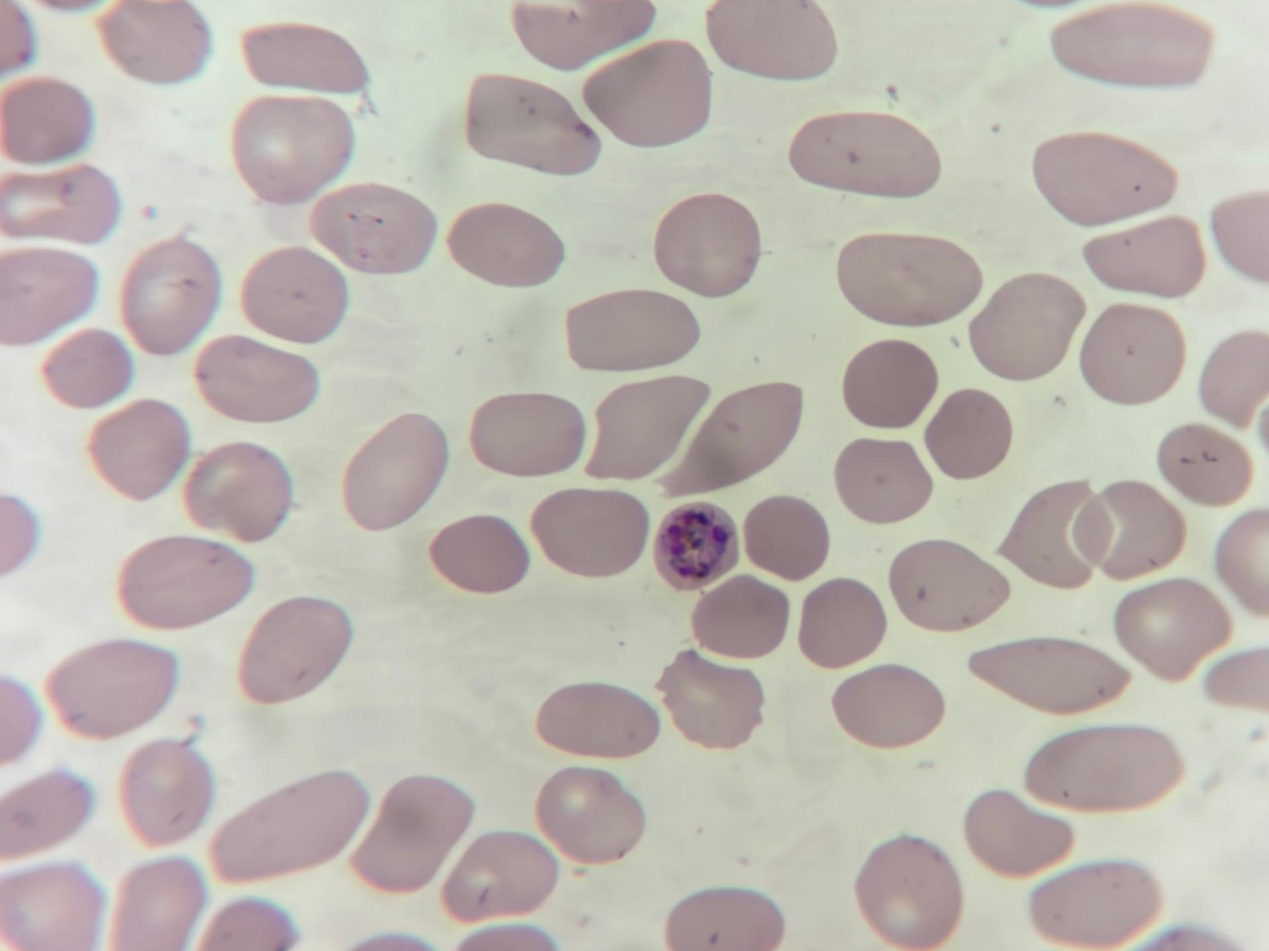Infected: (650, 503, 737, 591)
Uninfected: (210, 770, 369, 885), (652, 381, 802, 500), (347, 775, 473, 893), (1050, 2, 1215, 88), (581, 40, 711, 149), (465, 74, 599, 176), (836, 234, 981, 327), (1033, 133, 1178, 225), (45, 639, 177, 740), (1026, 724, 1177, 812), (581, 378, 707, 481), (789, 112, 938, 198), (118, 535, 250, 630), (341, 413, 449, 529), (232, 96, 350, 201), (237, 597, 350, 704), (969, 639, 1127, 715), (966, 275, 1083, 377), (855, 839, 964, 948), (122, 236, 223, 353), (1114, 579, 1229, 681), (1028, 861, 1161, 948), (309, 183, 434, 275), (997, 482, 1104, 588), (889, 540, 1012, 632), (1079, 303, 1188, 405), (654, 194, 761, 297), (239, 247, 349, 346), (440, 832, 556, 925), (183, 443, 293, 541), (535, 767, 646, 864), (564, 289, 695, 371), (529, 489, 647, 580), (120, 738, 216, 849), (196, 335, 317, 422), (655, 650, 762, 747), (87, 397, 189, 498), (1081, 481, 1184, 580), (445, 204, 566, 288), (706, 1, 833, 81), (1082, 215, 1202, 298), (97, 0, 213, 85), (533, 682, 656, 762), (512, 2, 652, 72), (240, 22, 369, 96), (469, 393, 584, 476), (0, 248, 99, 344), (831, 666, 944, 749), (1, 860, 104, 951), (0, 167, 123, 243), (964, 790, 1071, 877), (108, 857, 208, 950), (689, 572, 790, 658), (0, 73, 94, 165), (841, 339, 938, 428), (1, 767, 93, 859), (835, 438, 934, 523), (1157, 422, 1253, 506), (427, 515, 529, 594), (925, 390, 1013, 480), (798, 578, 886, 667), (41, 326, 135, 408), (742, 495, 829, 582), (666, 887, 783, 950), (1198, 332, 1269, 430), (1210, 190, 1269, 289), (1215, 510, 1269, 613), (0, 0, 36, 79)
